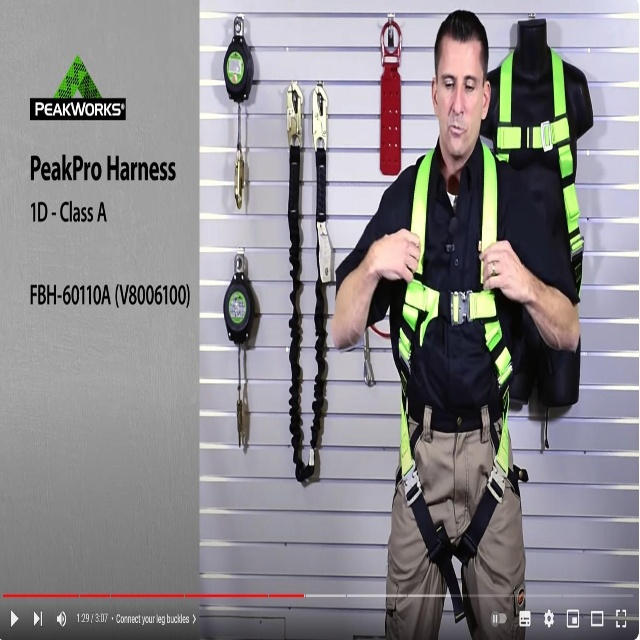Arnes_seguridad: (399, 136, 512, 639)
